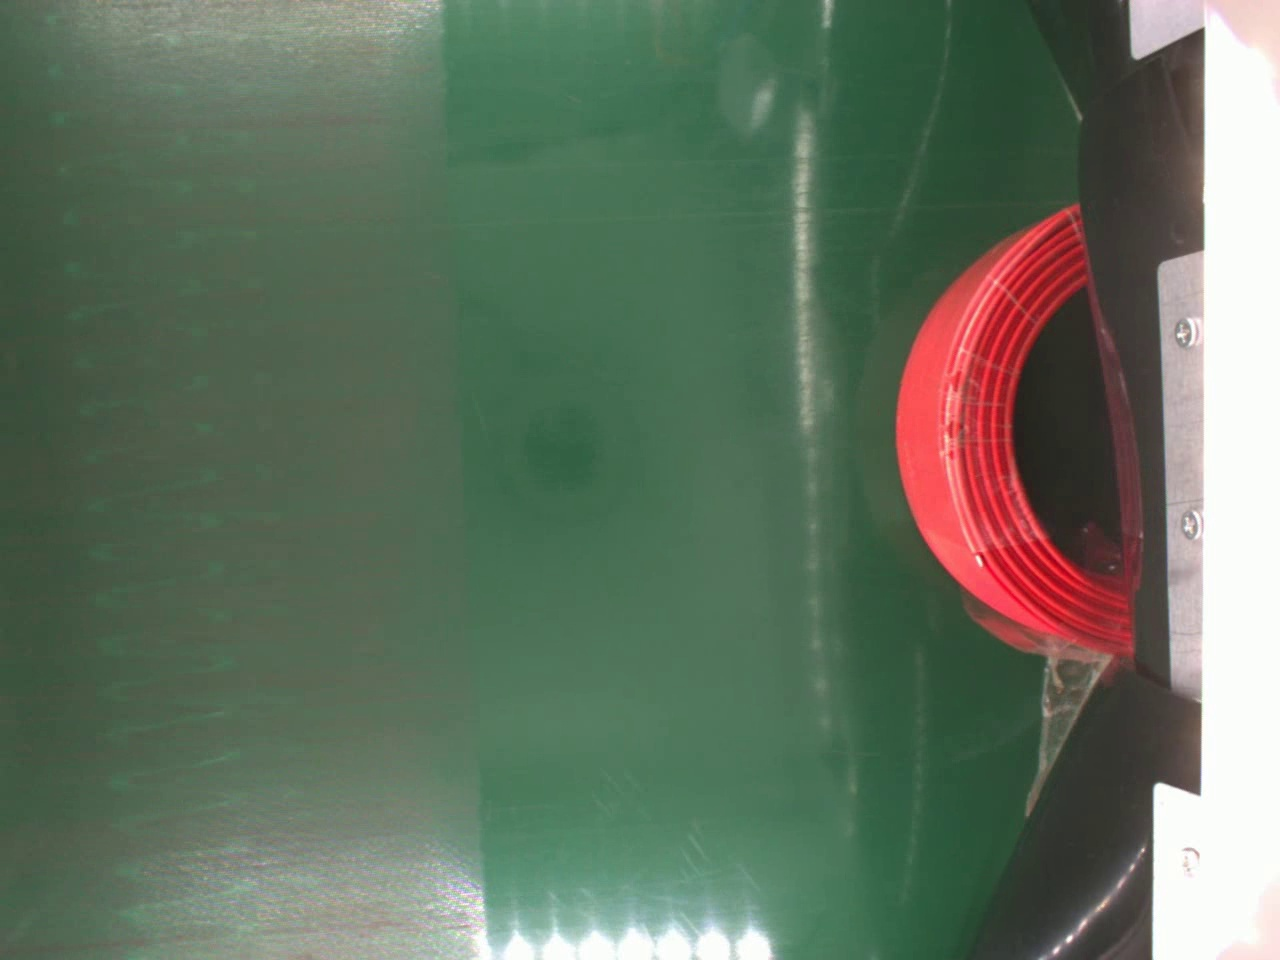red: (889, 200, 1132, 661)
